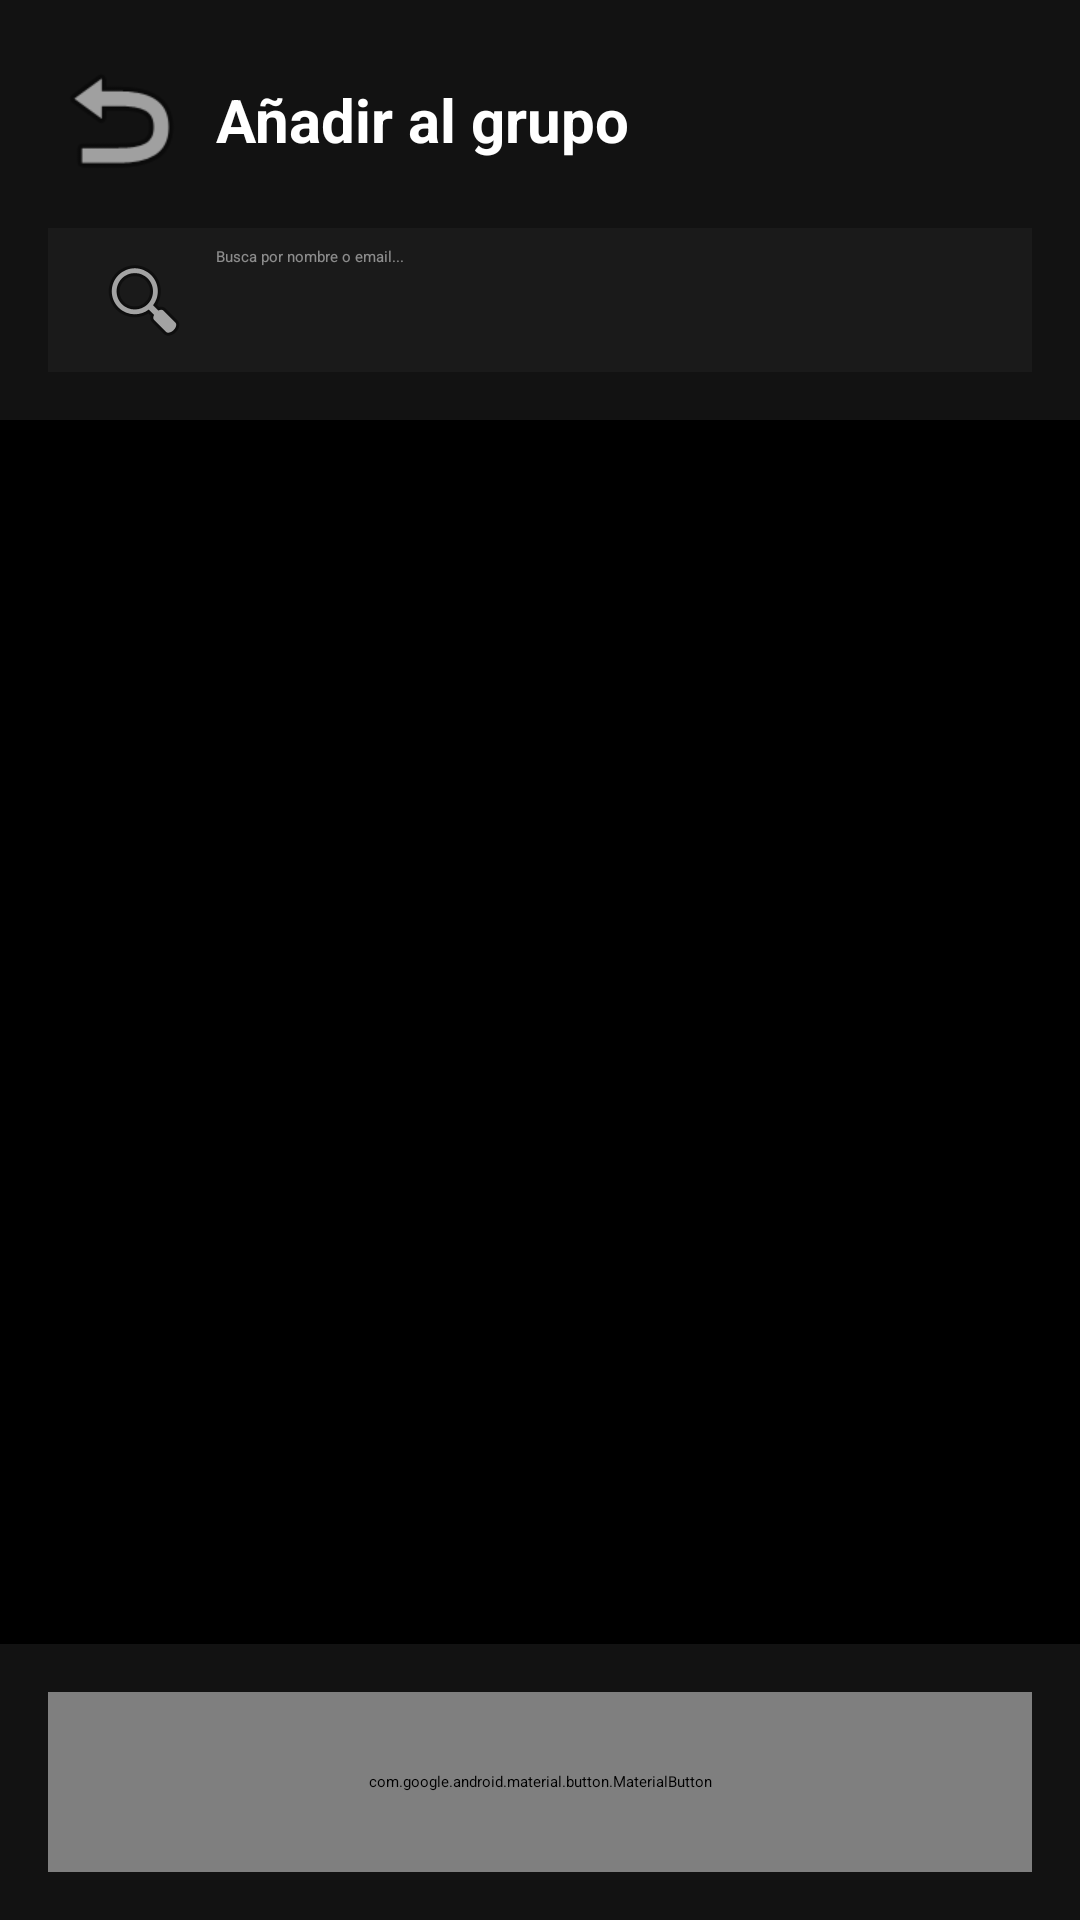

Named icons in this screenshot (1080 x 1920) and their centers, point (x, y):
revert: point (122, 121)
